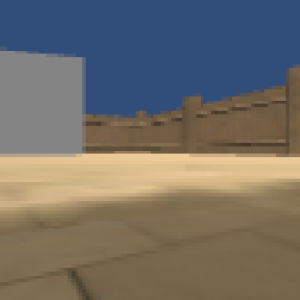wall: (1, 51, 85, 156)
